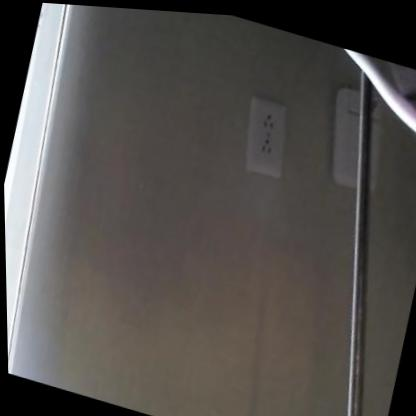OUTLET: (237, 94, 294, 181)
